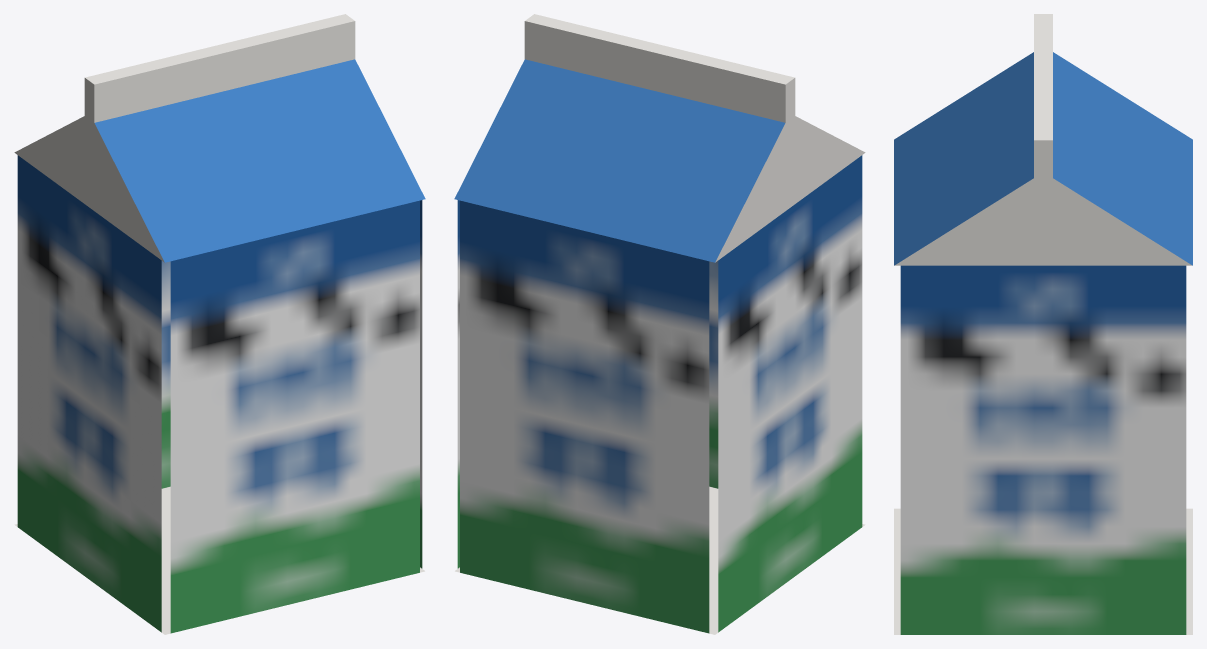
Rendered from SC_Prod_Milk_Carton_200.gltf.
The picture shows the model from 3 angles, left to right: view 1: azimuth 30°, elevation 25°; view 2: azimuth 150°, elevation 25°; view 3: azimuth 270°, elevation 25°; orthographic projection.
Visible parts, largest first — view 1: SC_Prod_Milk_Carton_200; view 2: SC_Prod_Milk_Carton_200; view 3: SC_Prod_Milk_Carton_200.
Part boxes in pixels (x1,y1,x2,y2): SC_Prod_Milk_Carton_200: [14, 14, 425, 634]; SC_Prod_Milk_Carton_200: [454, 14, 865, 634]; SC_Prod_Milk_Carton_200: [894, 14, 1192, 634].
Bounding box in the file's own units: 0.055 × 0.1005 × 0.055.
2 materials, 2 textured.
